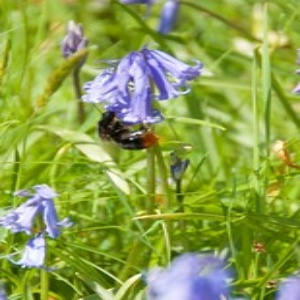bee: (97, 108, 165, 156)
